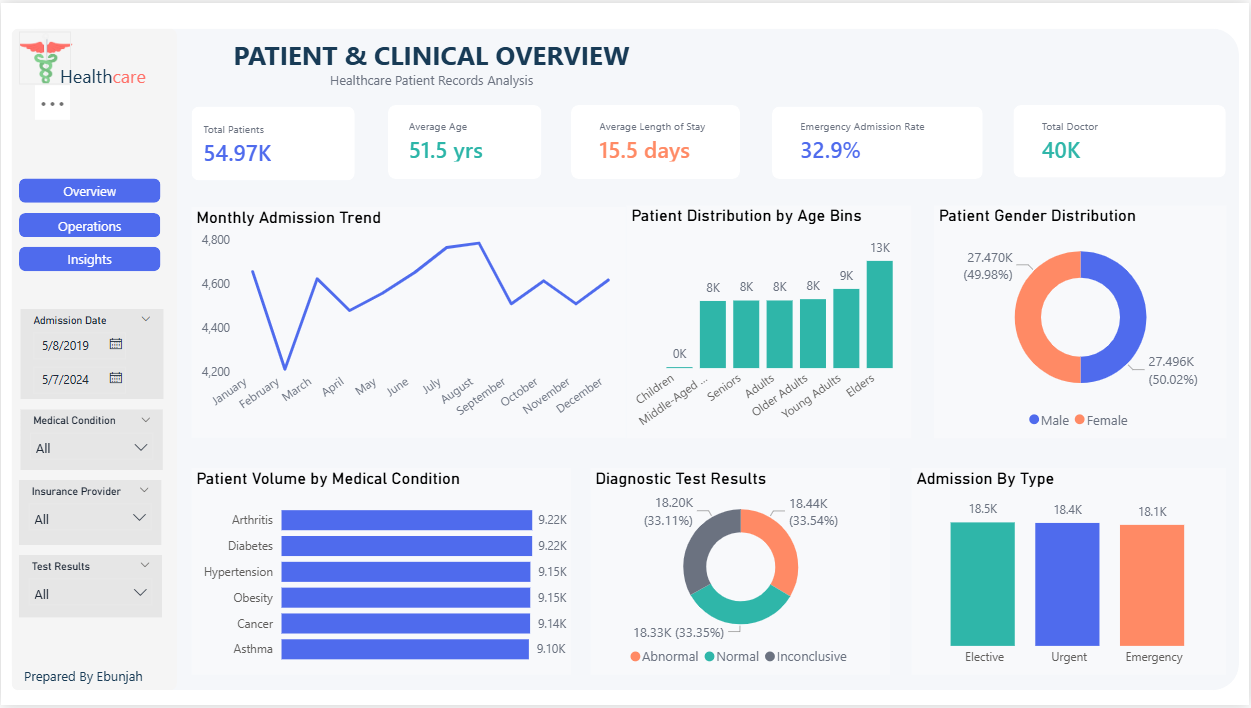

What the dashboard file says about the page in this screenshot:
{"tool":"powerbi","page":{"name":"Overview","canvas":[1280,720],"ordinal":0},"visuals":[{"type":"shape","box":[10.6,25.8,1259.1,678.8],"z":0},{"type":"shape","box":[10.6,25.8,169.7,678.8],"z":1000},{"type":"image","box":[18.6,28.6,54.4,54.4],"z":2000},{"type":"textbox","box":[55.9,57.3,100.3,40.1],"z":3000},{"type":"textbox","box":[195.5,28.8,492.4,68.2],"z":4000},{"type":"shape","box":[194.8,106,167.6,75.9],"z":5000},{"type":"shape","box":[396.8,104.6,157.6,75.9],"z":6000},{"type":"shape","box":[584.4,104.6,173.3,75.9],"z":7000},{"type":"shape","box":[790.7,106,216.3,74.5],"z":8000},{"type":"cardVisual","fields":{"Data":["Health care Dataset.Total Records"]},"box":[179,107.4,183.3,74.5],"z":9000},{"type":"cardVisual","fields":{"Data":["Health care Dataset.Avg Age"]},"box":[389.6,104.6,164.7,75.9],"z":10000},{"type":"cardVisual","fields":{"Data":["Health care Dataset.Avg Length Of Stay"]},"box":[584.4,104.6,173.3,75.9],"z":11000},{"type":"cardVisual","fields":{"Data":["Health care Dataset.Emergency Admission Rate"]},"box":[790.7,104.6,216.3,75.9],"z":12000},{"type":"lineChart","title":"Monthly Admission Trend","fields":{"Y":["Health care Dataset.Total Records"],"Category":["Health care Dataset.Date of Admission.Variation.Date Hierarchy.Month"]},"box":[194.8,209.1,445.5,236.3],"z":13000},{"type":"donutChart","title":"Patient Gender Distribution","fields":{"Category":["Health care Dataset.Gender"],"Y":["Health care Dataset.Total Records"]},"box":[956.9,208.4,300,238.4],"z":14000},{"type":"clusteredBarChart","title":"Patient Volume by Medical Condition","fields":{"Category":["Health care Dataset.Medical Condition"],"Y":["Health care Dataset.Total Records"]},"box":[195.5,477.3,389.4,212.1],"z":15000},{"type":"donutChart","title":"Diagnostic Test Results","fields":{"Category":["Health care Dataset.Test Results"],"Y":["Health care Dataset.Total Records"]},"box":[604.5,477.3,307.6,212.1],"z":16000},{"type":"clusteredColumnChart","title":"Admission By Type","fields":{"Category":["Health care Dataset.Admission Type"],"Y":["Health care Dataset.Total Records"]},"box":[933.3,477.3,322.7,212.1],"z":17000},{"type":"pageNavigator","box":[18.5,180.7,145.9,96.3],"z":18000},{"type":"slicer","fields":{"Values":["Health care Dataset.Date of Admission"]},"box":[19.3,314.1,145.9,91.9],"z":19000},{"type":"slicer","fields":{"Values":["Health care Dataset.Medical Condition"]},"box":[19.3,416.3,145.9,62.2],"z":20000},{"type":"slicer","fields":{"Values":["Health care Dataset.Test Results"]},"box":[18.5,565.9,146.7,63.7],"z":21000},{"type":"slicer","fields":{"Values":["Health care Dataset.Insurance Provider"]},"box":[18.5,488.9,145.9,66.7],"z":22000},{"type":"textbox","box":[18.2,675.8,136.4,43.9],"z":23000},{"type":"shape","box":[1038.5,104.6,217.7,74.5],"z":24000},{"type":"cardVisual","fields":{"Data":["Health care Dataset.Total Doctor"]},"box":[1038.5,104.6,216.3,75.9],"z":25000},{"type":"clusteredColumnChart","title":"Patient Distribution by Age Bins","fields":{"Category":["Health care Dataset.Age Group"],"Y":["Health care Dataset.Total Patients"]},"box":[641.1,208.4,292.1,238.4],"z":26000}]}

Visuals, with their boxes in screenshot pixels (x1, y1, x2, y2), scaled from the page's 1280x720 canvas onto the 1251x708 screenshot:
shape: 10 25 1241 693
shape: 10 25 176 693
image: 18 28 71 82
textbox: 55 56 153 96
textbox: 191 28 672 95
shape: 190 104 354 179
shape: 388 103 542 177
shape: 571 103 741 177
shape: 773 104 984 177
cardVisual - Health care Dataset.Total Records: 175 106 354 179
cardVisual - Health care Dataset.Avg Age: 381 103 542 177
cardVisual - Health care Dataset.Avg Length Of Stay: 571 103 741 177
cardVisual - Health care Dataset.Emergency Admission Rate: 773 103 984 177
"Monthly Admission Trend" lineChart: 190 206 626 438
"Patient Gender Distribution" donutChart: 935 205 1228 439
"Patient Volume by Medical Condition" clusteredBarChart: 191 469 572 678
"Diagnostic Test Results" donutChart: 591 469 891 678
"Admission By Type" clusteredColumnChart: 912 469 1228 678
pageNavigator: 18 178 161 272
slicer - Health care Dataset.Date of Admission: 19 309 161 399
slicer - Health care Dataset.Medical Condition: 19 409 161 471
slicer - Health care Dataset.Test Results: 18 556 161 619
slicer - Health care Dataset.Insurance Provider: 18 481 161 546
textbox: 18 665 151 707
shape: 1015 103 1228 176
cardVisual - Health care Dataset.Total Doctor: 1015 103 1226 177
"Patient Distribution by Age Bins" clusteredColumnChart: 627 205 912 439
